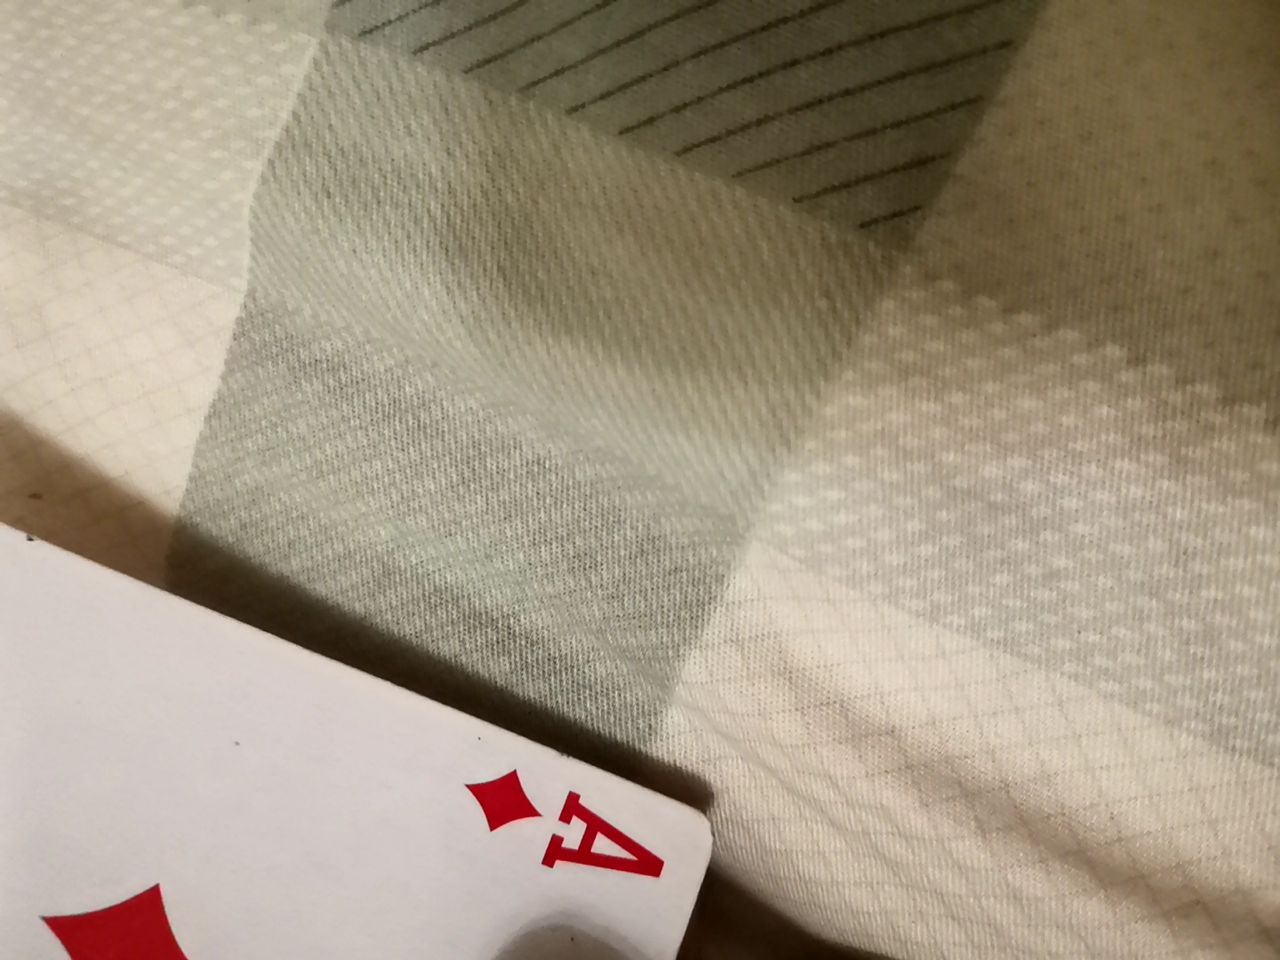fk a: (0, 421, 763, 953)
